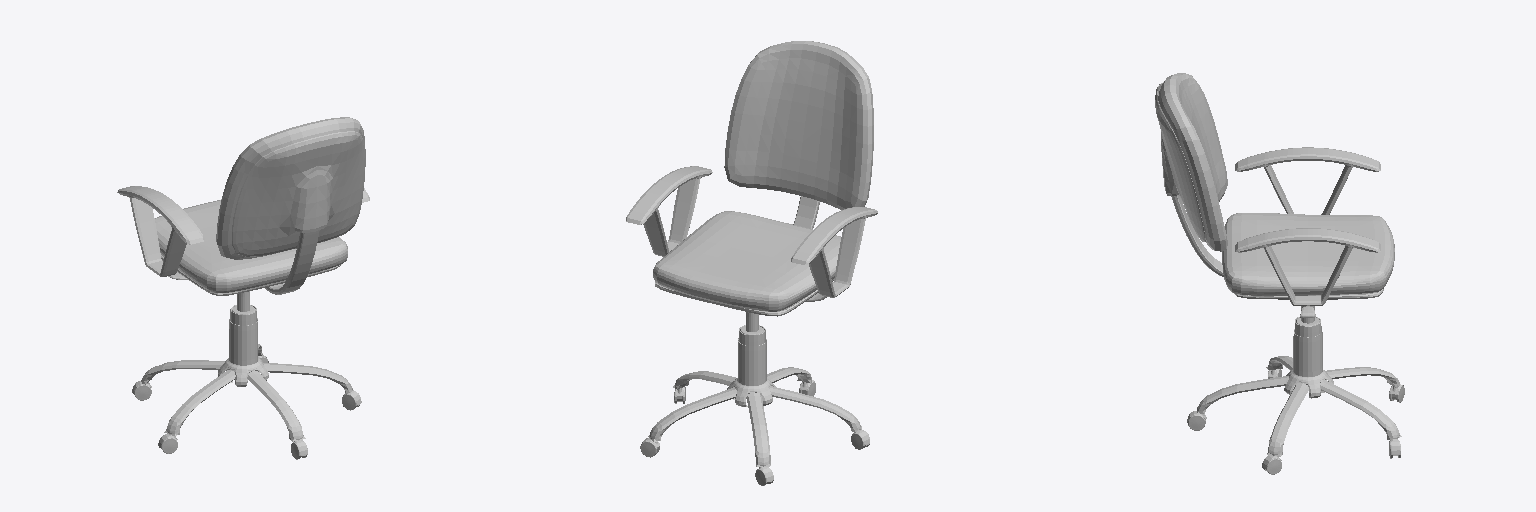
File: cadeira.obj
The picture shows the model from 3 angles: view 1: azimuth 30°, elevation 25°; view 2: azimuth 150°, elevation 25°; view 3: azimuth 270°, elevation 25°; orthographic projection.
Visible parts, largest first — view 1: Chair.004_Chair.008; view 2: Chair.004_Chair.008; view 3: Chair.004_Chair.008.
Boxes of the visible parts, x1=… form: Chair.004_Chair.008: x1=117, y1=117, x2=369, y2=459; Chair.004_Chair.008: x1=626, y1=41, x2=877, y2=485; Chair.004_Chair.008: x1=1155, y1=73, x2=1404, y2=474.
Bounding box in the file's own units: 4.52 × 7.51 × 4.94.